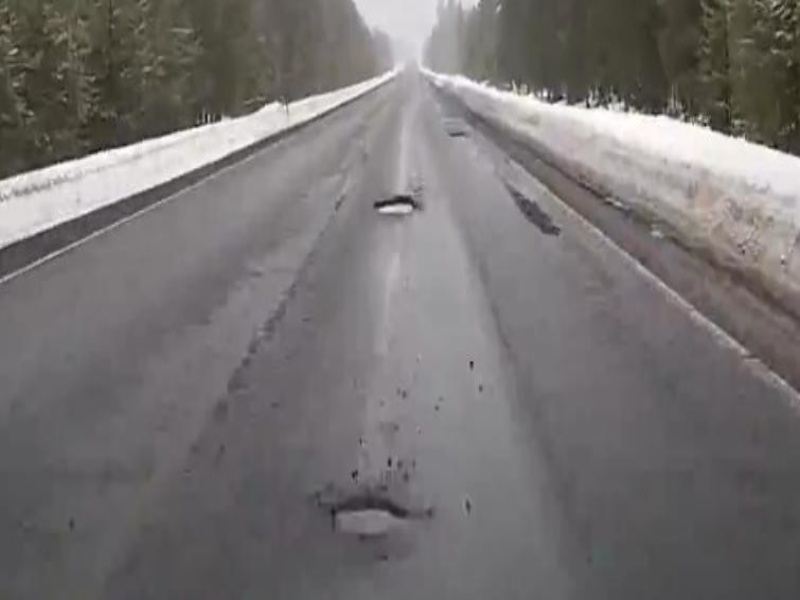pothole: (326, 495, 413, 538), (370, 193, 422, 217)
